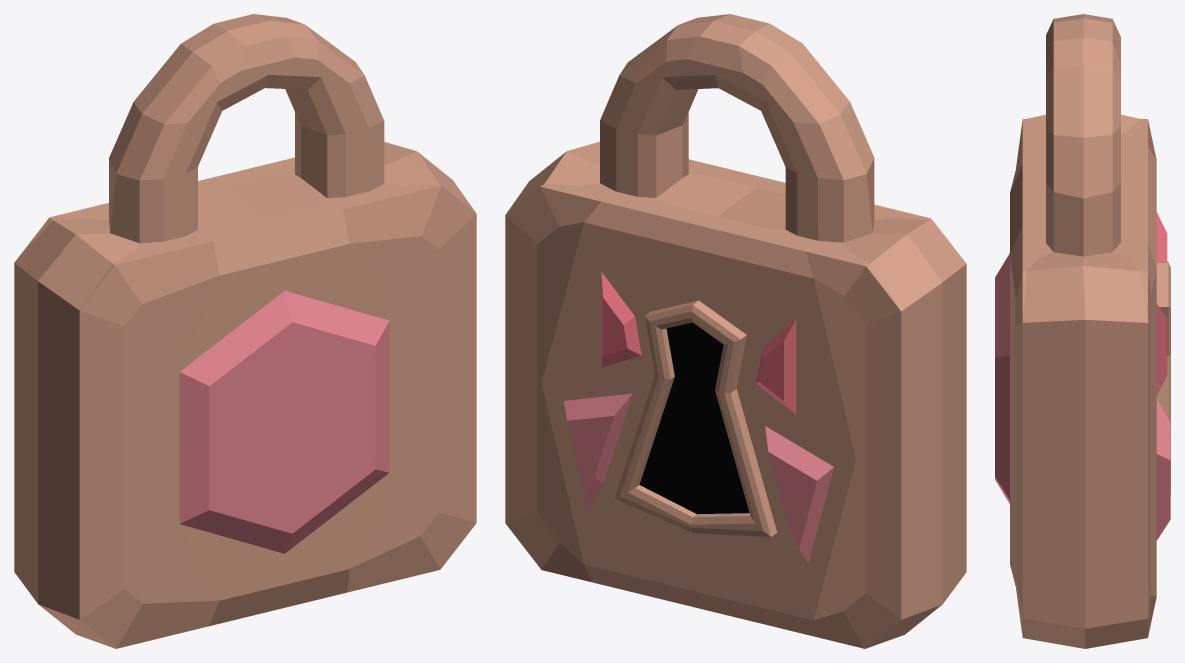
The model's file is Padlock.fbx.
3 renders of one model, left to right at view 1: azimuth 30°, elevation 25°; view 2: azimuth 150°, elevation 25°; view 3: azimuth 270°, elevation 25°, orthographic. The views are drawn at different scales.
Parts seen in each view (by area): view 1: Padlock; view 2: Padlock; view 3: Padlock.
Boxes of the visible parts, left/top/right/bottom form: Padlock: left=14, top=14, right=476, bottom=648; Padlock: left=505, top=14, right=966, bottom=648; Padlock: left=995, top=14, right=1170, bottom=648.
Bounding box in the file's own units: 255 × 333 × 97.69.
Materials: 1 (1 with a texture image).
